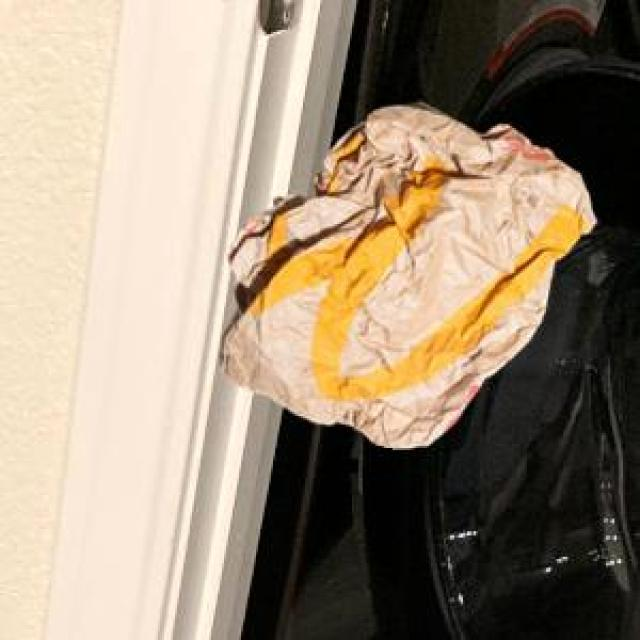Paper_Bag: (217, 100, 592, 444)
